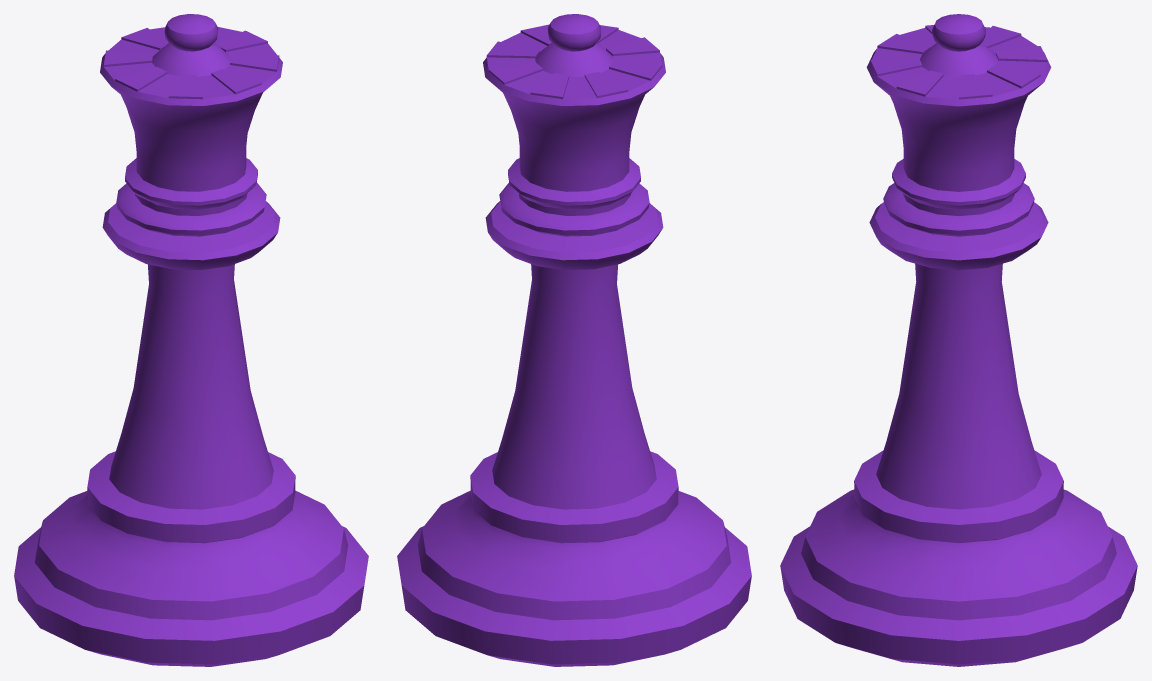
The model's file is queen.obj.
The picture shows the model from 3 angles, left to right: view 1: azimuth 30°, elevation 25°; view 2: azimuth 150°, elevation 25°; view 3: azimuth 270°, elevation 25°; orthographic projection.
Parts seen in each view (by area): view 1: QUEEN; view 2: QUEEN; view 3: QUEEN.
Boxes of the visible parts, bbox=[...] form: QUEEN: bbox=[14, 14, 368, 666]; QUEEN: bbox=[397, 14, 751, 666]; QUEEN: bbox=[780, 14, 1137, 666].
Bounding box in the file's own units: 0.7125 × 1.29 × 0.7125.
